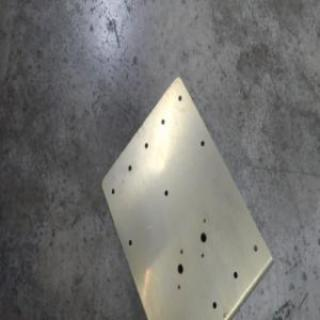MetalSheettrack_idkeyframe: (99, 72, 274, 319)
